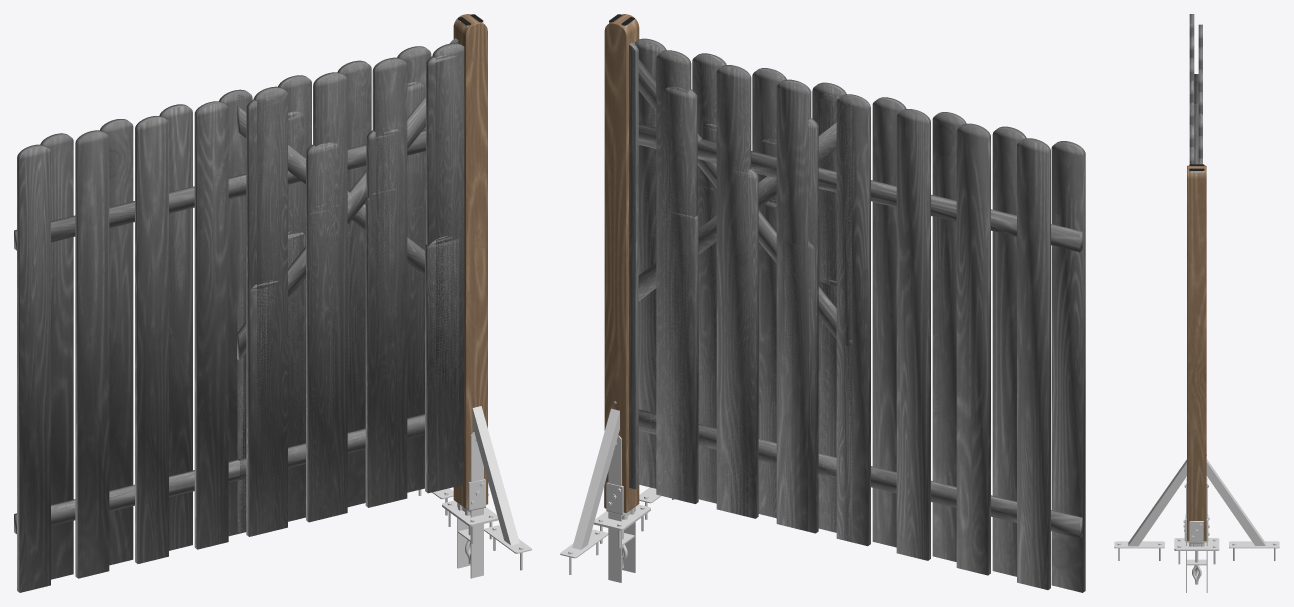
The model's file is boleoCombo19.glb.
3 views of the same model, side by side, from view 1: azimuth 30°, elevation 25°; view 2: azimuth 150°, elevation 25°; view 3: azimuth 270°, elevation 25° (orthographic). The views are drawn at different scales.
Visible parts, largest first — view 1: BOLEO180180, BOLEOKosaDesna, BOLEOKosaLeva, BOLEO90180, stubić Sina, sturmanker-right-front, Nosač Stubića Sina, post-root-right; view 2: BOLEO180180, BOLEOKosaLeva, BOLEO90180, BOLEOKosaDesna, stubić Sina, sturmanker-right-rear, Nosač Stubića Sina, post-root-right; view 3: stubić Sina, BOLEO180180, sturmanker-right-rear, sturmanker-right-front, post-root-right, Nosač Stubića Sina, NosacBoth, BOLEOKosaDesna.
Boxes of the visible parts, x1,y1,x2,y2 form: BOLEO180180: (14,43,464,592); BOLEOKosaDesna: (237,94,458,536); BOLEOKosaLeva: (237,38,459,536); BOLEO90180: (237,44,464,529); stubić Sina: (453,14,487,508); sturmanker-right-front: (472,406,531,570); Nosač Stubića Sina: (457,432,483,578); post-root-right: (442,500,498,543); BOLEO180180: (635,38,1085,592); BOLEOKosaLeva: (629,42,852,541); BOLEO90180: (635,39,852,542); BOLEOKosaDesna: (629,94,851,533); stubić Sina: (604,14,639,512); sturmanker-right-rear: (560,401,619,574); Nosač Stubića Sina: (608,435,635,582); post-root-right: (594,504,650,548); stubić Sina: (1187,165,1206,540); BOLEO180180: (1189,14,1202,164); sturmanker-right-rear: (1206,454,1279,560); sturmanker-right-front: (1114,459,1186,560); post-root-right: (1174,538,1219,564); Nosač Stubića Sina: (1184,478,1208,592); NosacBoth: (1189,521,1203,577); BOLEOKosaDesna: (1194,104,1198,164).
Bounding box in the file's own units: 1.91 × 2.14 × 0.7571.
Materials: 10 (2 with a texture image).
